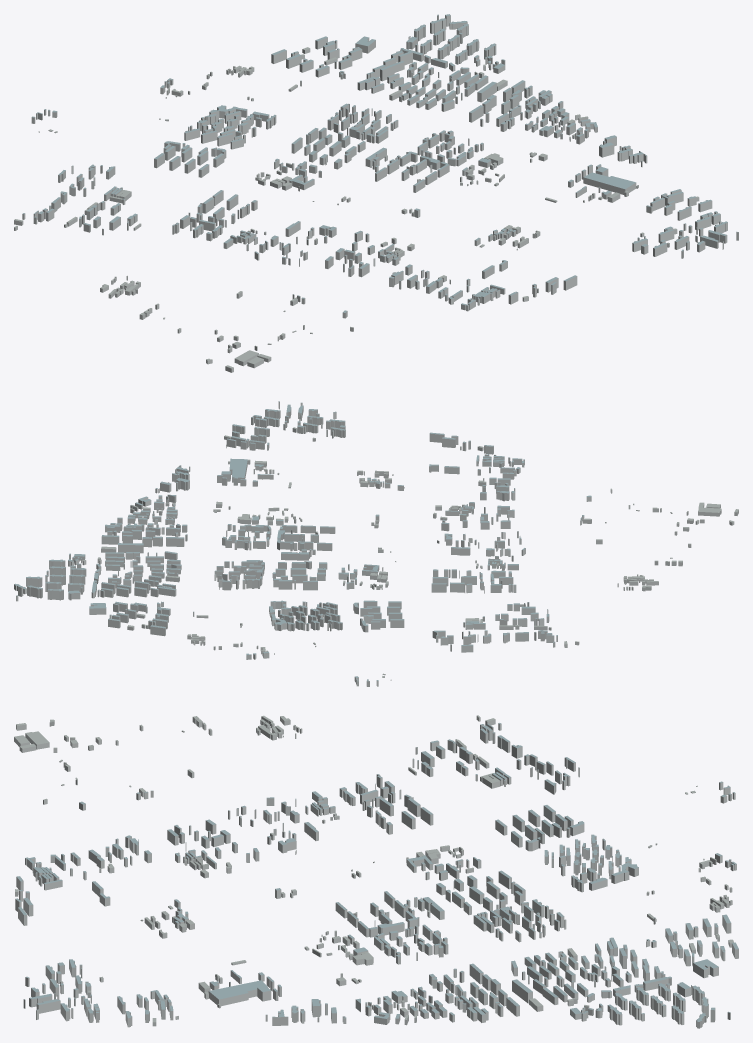
The model's file is far.glb.
3 views of the same model, one above another, from view 1: azimuth 30°, elevation 25°; view 2: azimuth 150°, elevation 25°; view 3: azimuth 270°, elevation 25° (orthographic). The views are drawn at different scales.
Bounding box in the file's own units: 2125 × 41.31 × 2104.
